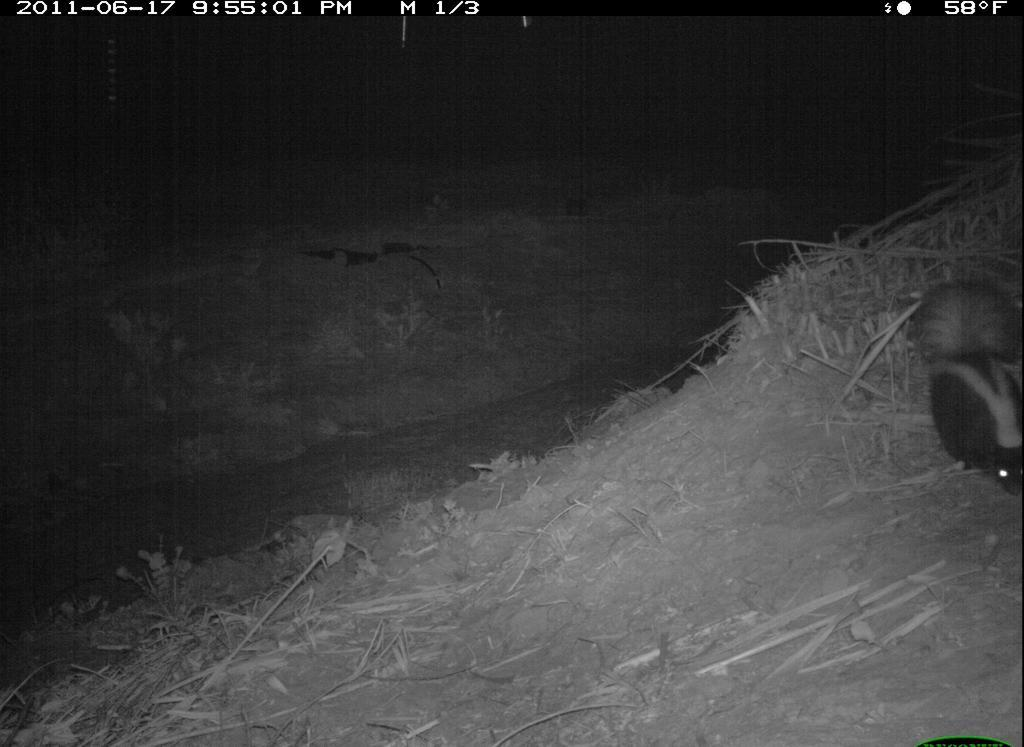skunk: (907, 273, 1023, 504)
